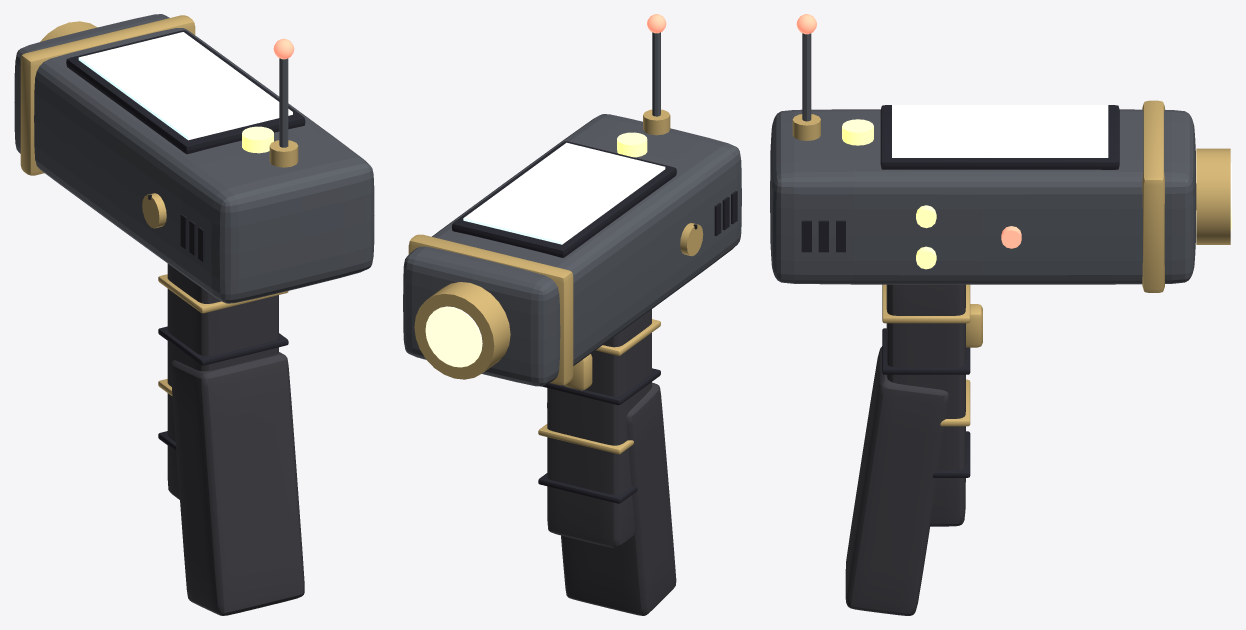
File: Ruin_Scanner.fbx
3 renders of one model, left to right at view 1: azimuth 30°, elevation 25°; view 2: azimuth 150°, elevation 25°; view 3: azimuth 270°, elevation 25°, orthographic. The views are drawn at different scales.
Visible parts, largest first — view 1: Scanner_Body, Scanner_Handle.001, Scanner_Screen, Scanner_Handle, Scanner_ScreenBezel, Scanner_BrassTrim, Scanner_GripRib2, Scanner_AntennaRod, Scanner_GripRib3, Scanner_TopScanBtn, Scanner_Dial, Scanner_AntennaBase (+1 smaller); view 2: Scanner_Body, Scanner_Handle, Scanner_Handle.001, Scanner_Screen, Scanner_EmitterHousing, Scanner_ScreenBezel, Scanner_BrassTrim, Scanner_EmitterLens, Scanner_GripRib2, Scanner_GripRib0, Scanner_GripRib1, Scanner_AntennaRod (+5 smaller); view 3: Scanner_Body, Scanner_Handle.001, Scanner_Screen, Scanner_Handle, Scanner_BrassTrim, Scanner_ScreenBezel, Scanner_EmitterHousing, Scanner_GripRib3, Scanner_GripRib2, Scanner_AntennaRod, Scanner_TopScanBtn, Scanner_AntennaBase (+1 smaller).
Boxes of the visible parts, x1,y1,x2,y2 form: Scanner_Body: (14,14,374,303); Scanner_Handle.001: (171,352,304,615); Scanner_Screen: (78,32,292,140); Scanner_Handle: (167,264,278,499); Scanner_ScreenBezel: (66,30,305,154); Scanner_BrassTrim: (20,15,195,175); Scanner_GripRib2: (158,326,288,365); Scanner_AntennaRod: (279,58,288,147); Scanner_GripRib3: (158,274,288,313); Scanner_TopScanBtn: (242,126,273,153); Scanner_Dial: (142,193,166,228); Scanner_AntennaBase: (269,140,298,167); Scanner_Body: (403,114,741,386); Scanner_Handle: (547,309,651,547); Scanner_Handle.001: (561,382,676,615); Scanner_Screen: (463,142,665,244); Scanner_EmitterHousing: (414,282,510,379); Scanner_ScreenBezel: (452,141,676,257); Scanner_BrassTrim: (408,234,573,385); Scanner_EmitterLens: (425,306,482,367); Scanner_GripRib2: (542,368,660,405); Scanner_GripRib0: (538,473,637,503); Scanner_GripRib1: (538,424,633,454); Scanner_AntennaRod: (652,32,660,116); Scanner_Body: (770,109,1196,284); Scanner_Handle.001: (845,346,948,615); Scanner_Screen: (892,105,1108,157); Scanner_Handle: (886,284,965,526); Scanner_BrassTrim: (1142,100,1164,292); Scanner_ScreenBezel: (880,105,1119,169); Scanner_EmitterHousing: (1196,148,1230,244); Scanner_GripRib3: (882,284,970,323); Scanner_GripRib2: (882,328,970,374); Scanner_AntennaRod: (802,33,811,121); Scanner_TopScanBtn: (842,119,873,145); Scanner_AntennaBase: (792,114,820,140).
Size of the model in its own units: 35.5 by 113 by 81.22.
